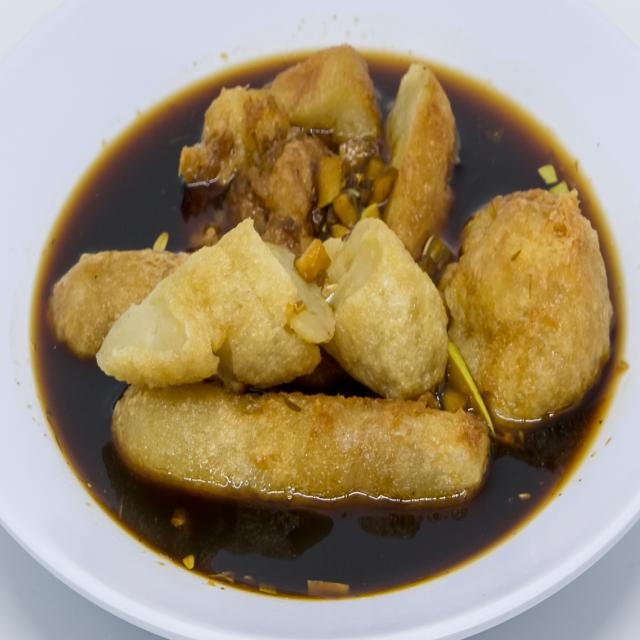Pempek-Palembang: (39, 40, 622, 519)
